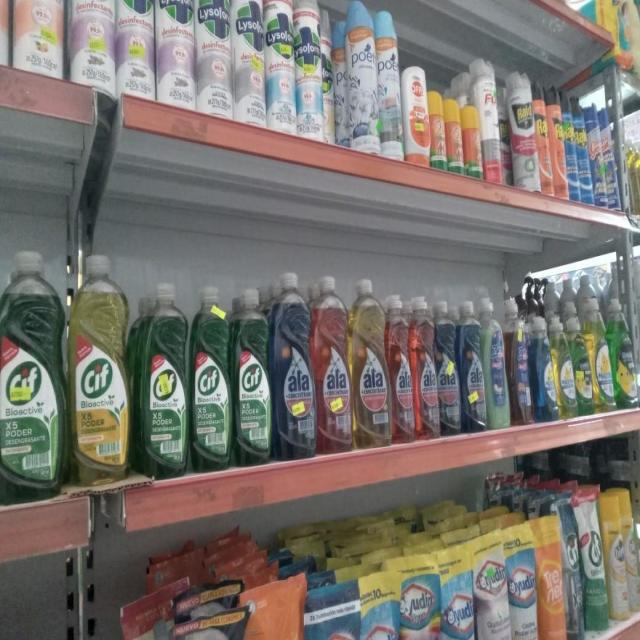ala_conc_amarillo: (352, 278, 388, 451)
ala_conc_azul: (274, 271, 314, 462), (461, 300, 485, 434), (437, 298, 460, 437)
ala_conc_rojo: (314, 273, 352, 456), (389, 292, 413, 444), (413, 296, 437, 442)
cif_conc_bot_amarilla: (70, 251, 131, 483), (625, 106, 640, 218)
cif_conc_botella_verde: (0, 248, 65, 502), (137, 280, 188, 479), (191, 284, 231, 474), (234, 286, 272, 466)
cif_conc_sachet_verde: (582, 463, 606, 635)
magistral_con_amarillo: (590, 294, 612, 414), (556, 311, 574, 420)
